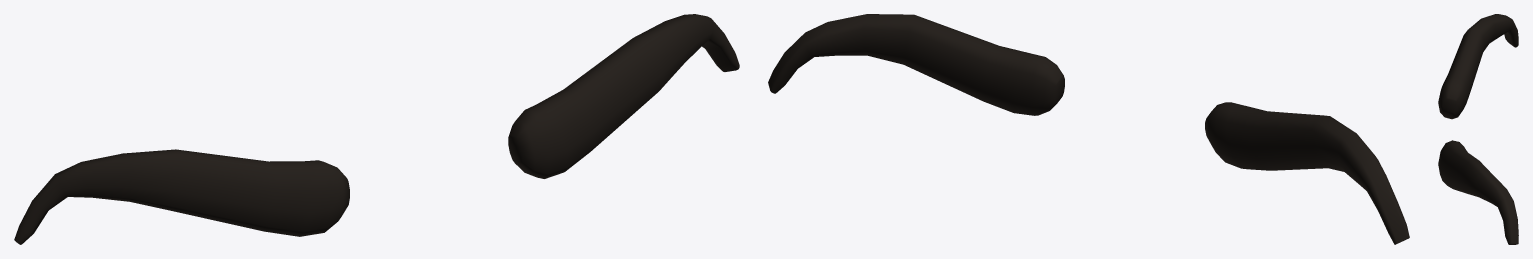
File: Eyebrows_20_01.fbx
The picture shows the model from 3 angles, left to right: view 1: azimuth 30°, elevation 25°; view 2: azimuth 150°, elevation 25°; view 3: azimuth 270°, elevation 25°; orthographic projection. The views are drawn at different scales.
Parts seen in each view (by area): view 1: Eyebrows_20_01; view 2: Eyebrows_20_01; view 3: Eyebrows_20_01.
Boxes of the visible parts, <box> form: Eyebrows_20_01: <box>14,14,739,244</box>; Eyebrows_20_01: <box>768,14,1409,244</box>; Eyebrows_20_01: <box>1438,14,1518,244</box>.
Bounding box in the file's own units: 19.57 × 2.5 × 3.27.
